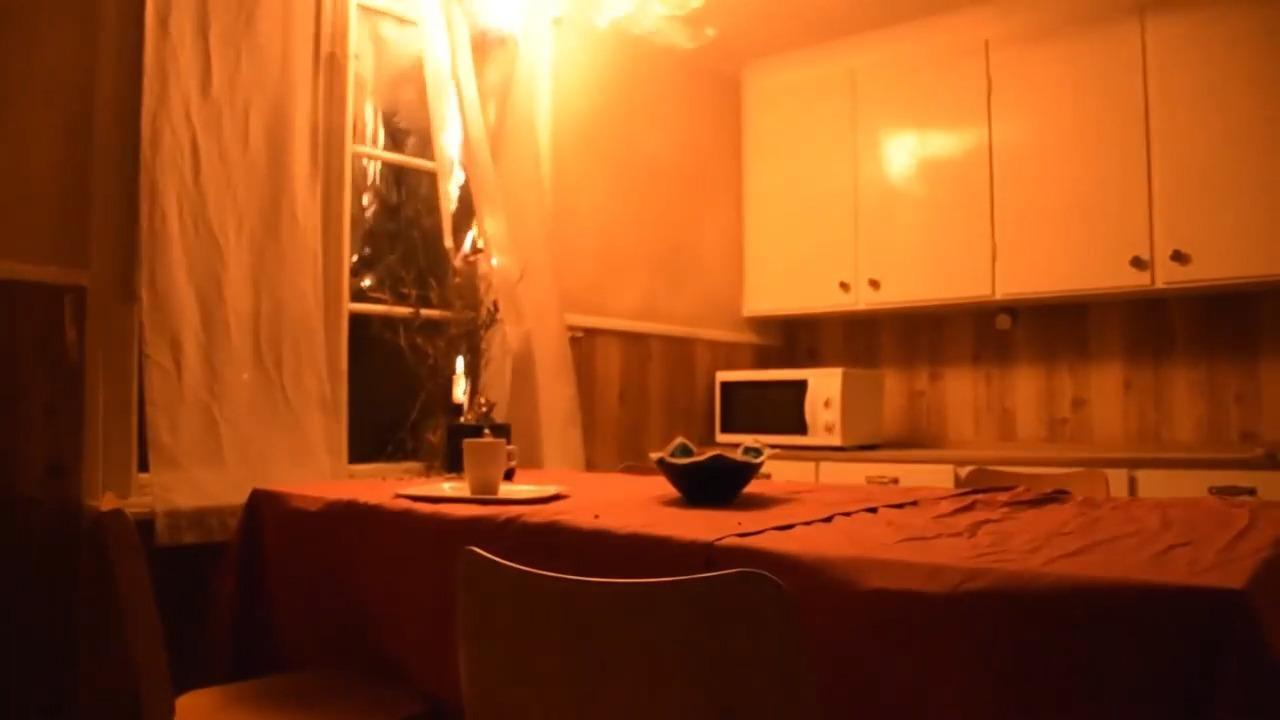fire: (400, 0, 742, 148), (453, 351, 469, 376)
